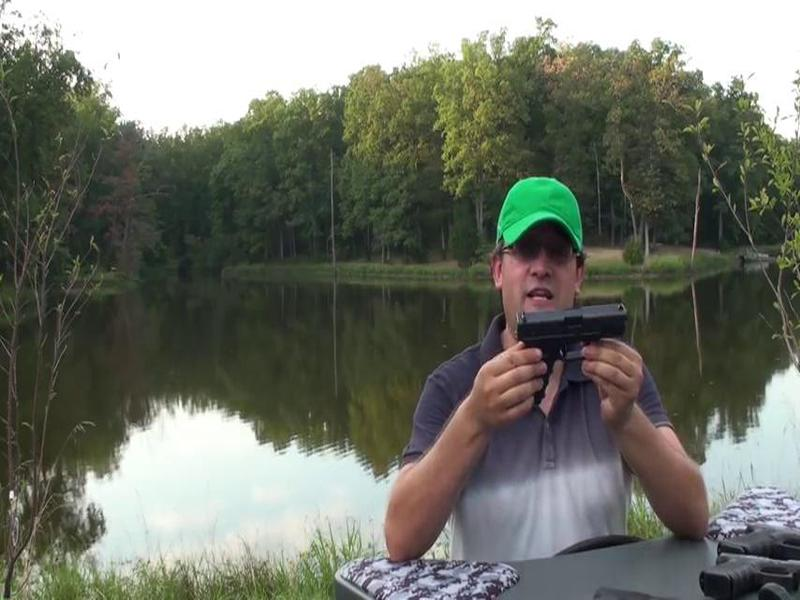Pistola: (487, 284, 649, 407)
